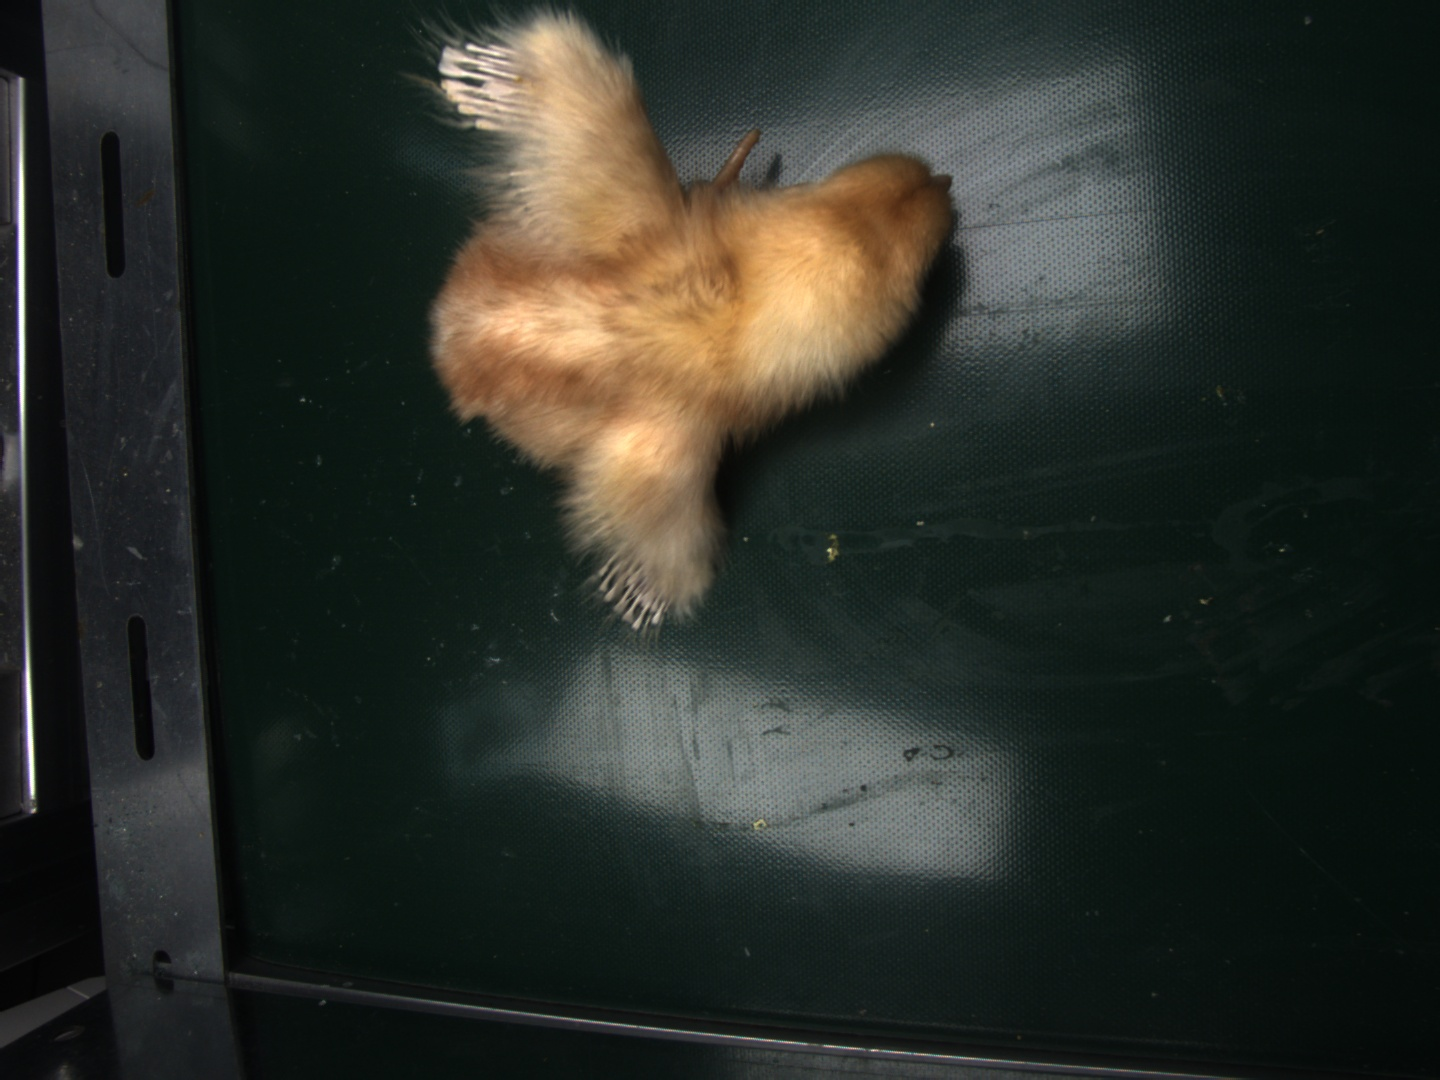female: (437, 33, 520, 133), (595, 550, 672, 632)
